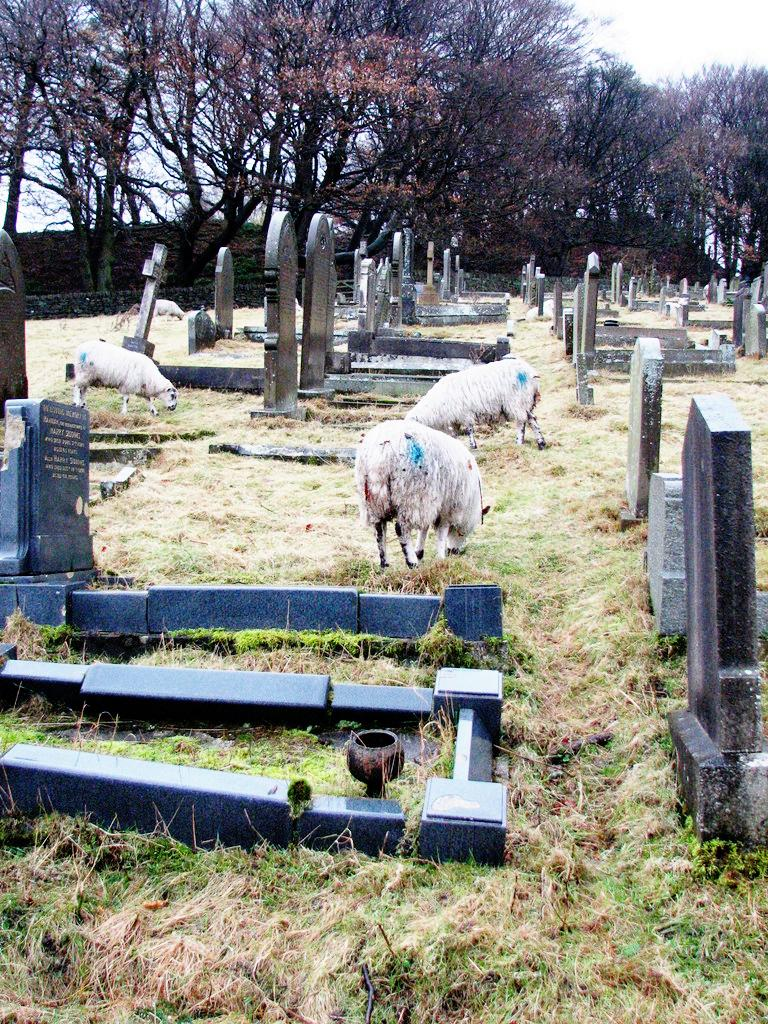Sheep: (352, 418, 490, 572), (405, 360, 545, 456), (72, 340, 178, 422), (156, 300, 184, 325), (532, 300, 554, 323)
